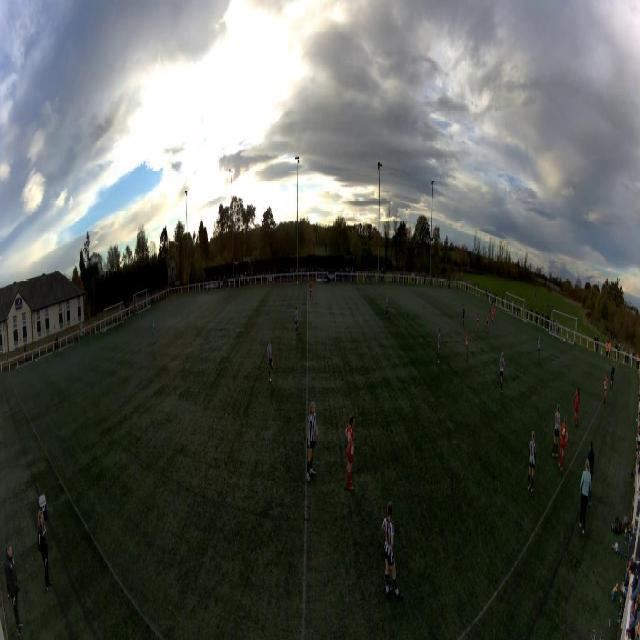player: (380, 499, 404, 601), (306, 403, 319, 483), (345, 420, 356, 480), (527, 432, 537, 491), (558, 417, 568, 471), (552, 403, 561, 458), (268, 336, 274, 380), (574, 385, 580, 427), (500, 351, 505, 392), (294, 307, 300, 335), (466, 326, 470, 362), (437, 327, 441, 363), (152, 319, 156, 345), (537, 335, 541, 361), (476, 309, 480, 333), (485, 311, 489, 333), (309, 281, 313, 300), (386, 295, 389, 319), (462, 304, 465, 326), (494, 306, 497, 325), (492, 305, 494, 325), (489, 307, 491, 324)
